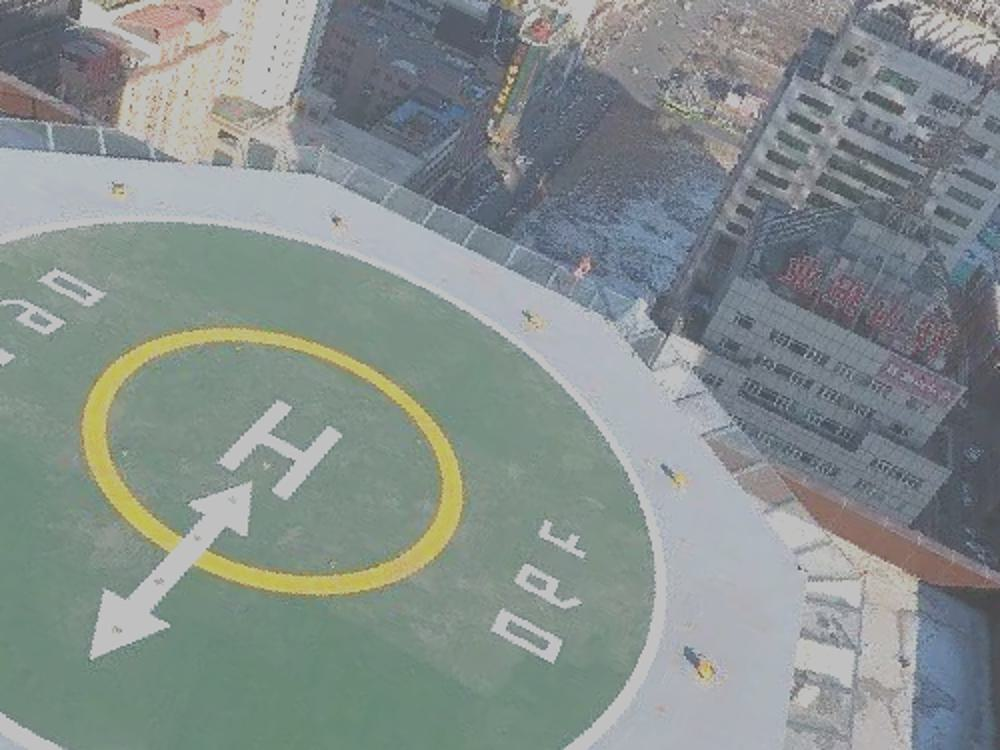Apron: (48, 301, 474, 585)
